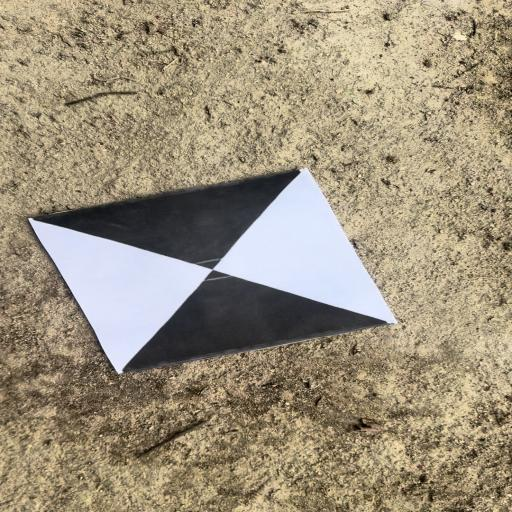target: (30, 170, 399, 372)
